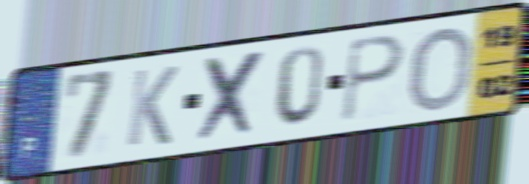0: (270, 44, 325, 130)
7: (62, 68, 117, 165)
K: (123, 63, 182, 150)
O: (405, 24, 475, 115)
P: (339, 32, 408, 126)
X: (194, 47, 269, 147)
